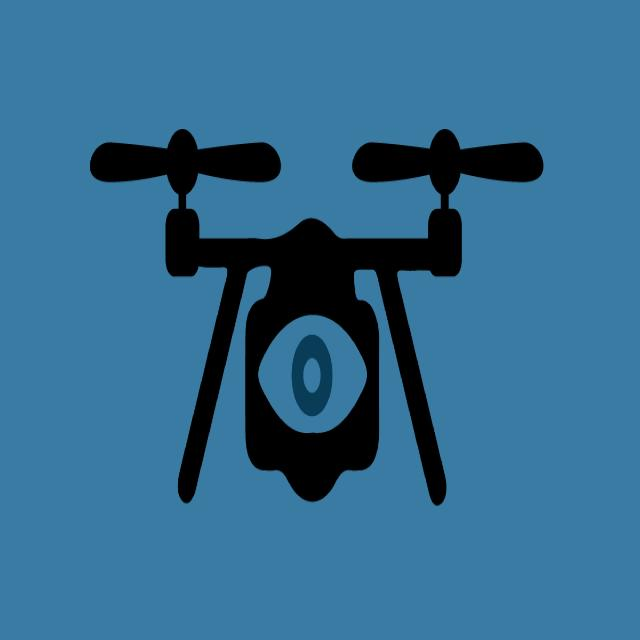drone: (83, 110, 594, 486)
